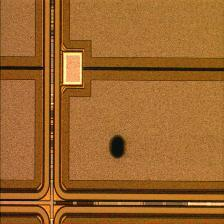PARTICLE: (106, 137, 129, 159)
